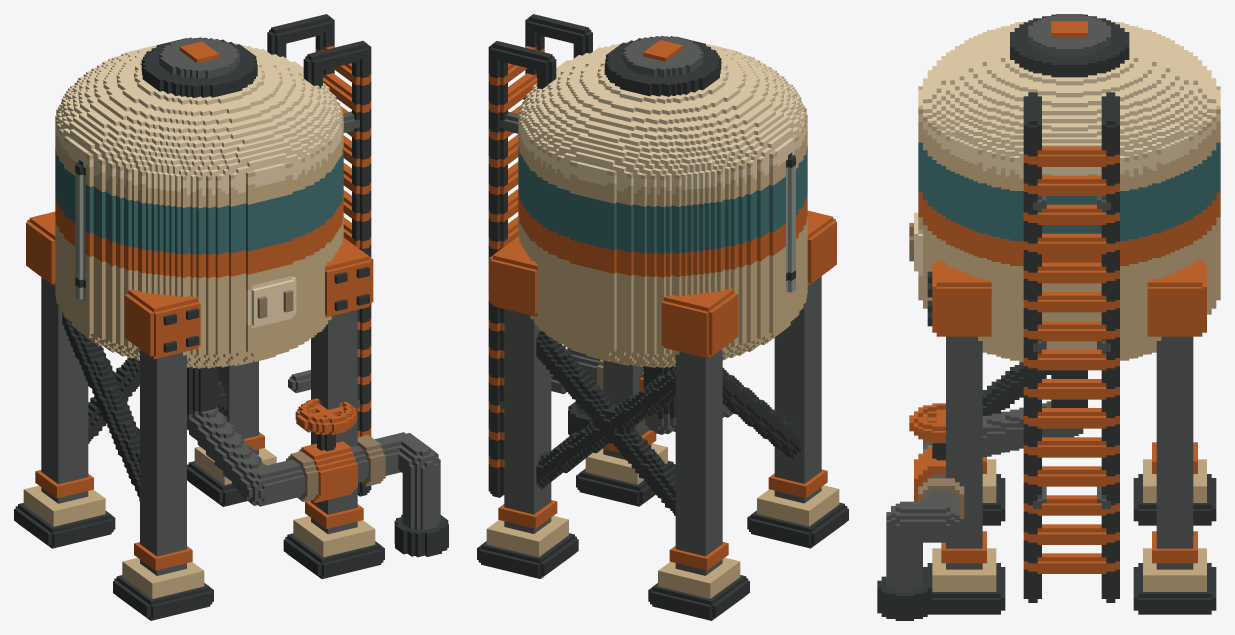
Rendered from water_tower.glb.
The picture shows the model from 3 angles, left to right: view 1: azimuth 30°, elevation 25°; view 2: azimuth 150°, elevation 25°; view 3: azimuth 270°, elevation 25°; orthographic projection. The views are drawn at different scales.
Visible parts, largest first — view 1: water_tower; view 2: water_tower; view 3: water_tower.
Boxes of the visible parts, x1,y1,x2,y2 form: water_tower: [14, 14, 448, 620]; water_tower: [477, 14, 848, 620]; water_tower: [877, 14, 1220, 620].
Size of the model in its own units: 3.16 by 5.08 by 3.
